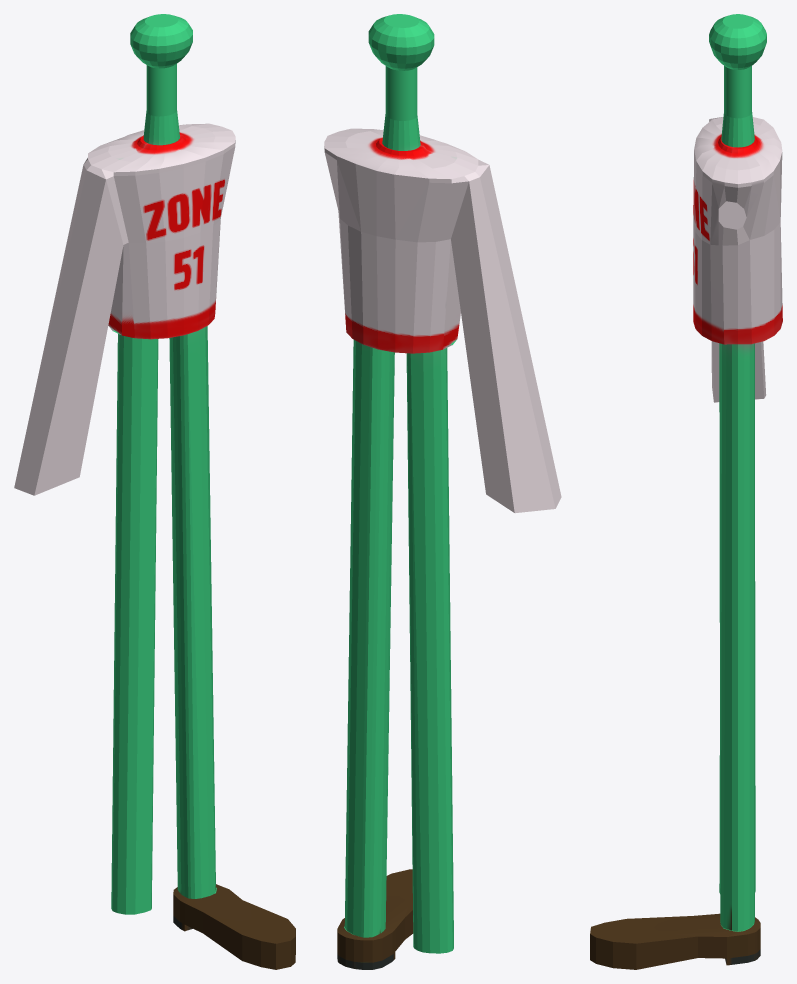
The model's file is alien_corps.fbx.
The picture shows the model from 3 angles, left to right: view 1: azimuth 30°, elevation 25°; view 2: azimuth 150°, elevation 25°; view 3: azimuth 270°, elevation 25°; orthographic projection. The views are drawn at different scales.
Visible parts, largest first — view 1: polySurface17; view 2: polySurface17; view 3: polySurface17.
Part boxes in pixels (box(x1,y1,x2,y2)): polySurface17: box(14, 14, 295, 969); polySurface17: box(324, 14, 561, 969); polySurface17: box(590, 14, 782, 969).
Bounding box in the file's own units: 2.31 × 8.98 × 1.72.
